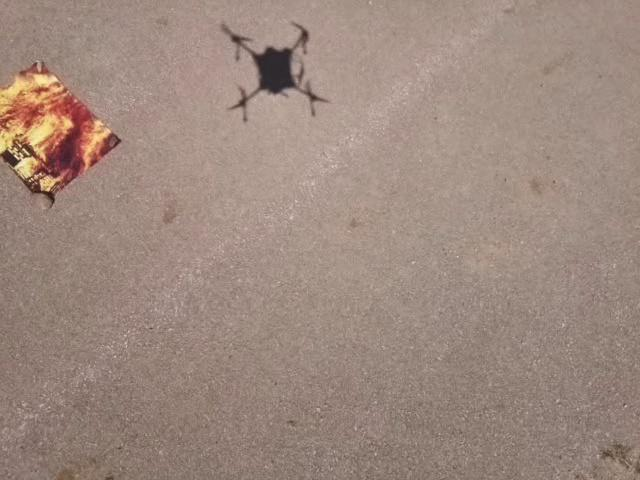fire-poster: (0, 58, 123, 206)
